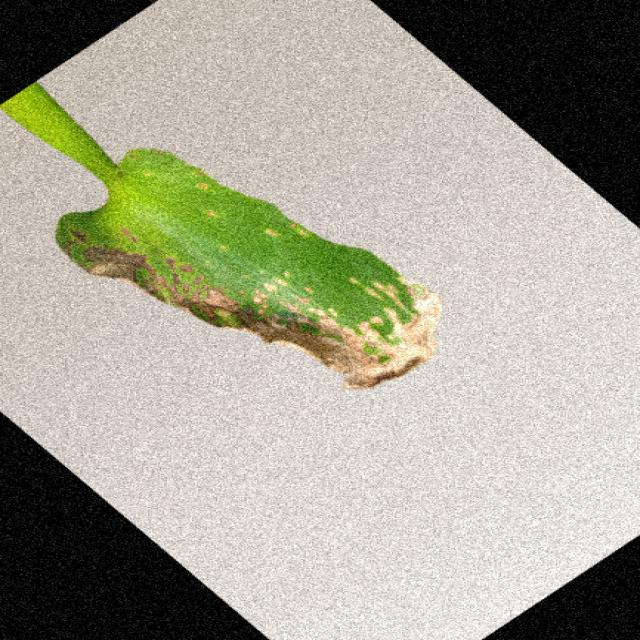daun berpenyakit bercak: (3, 84, 441, 388)
